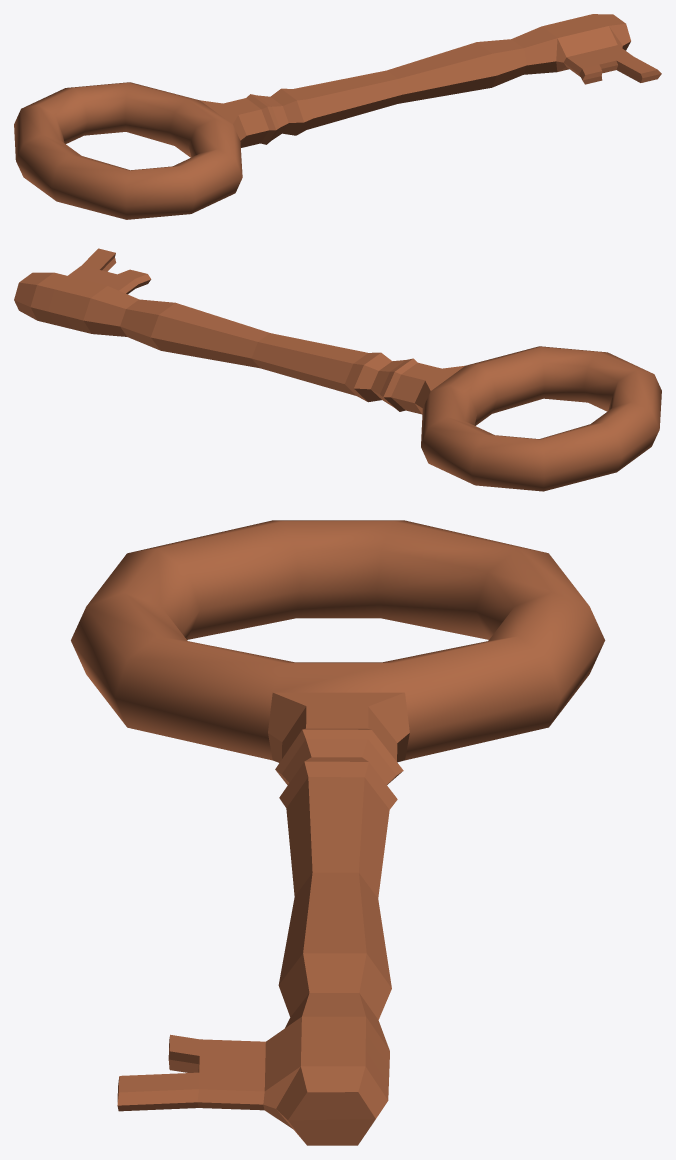
File: Key1.fbx
3 views of the same model, one above another, from view 1: azimuth 30°, elevation 25°; view 2: azimuth 150°, elevation 25°; view 3: azimuth 270°, elevation 25° (orthographic). The views are drawn at different scales.
Visible parts, largest first — view 1: Torus.097; view 2: Torus.097; view 3: Torus.097.
Part boxes in pixels (x1,y1,x2,y2): Torus.097: (14, 14, 661, 219); Torus.097: (14, 248, 661, 491); Torus.097: (71, 520, 605, 1145).
Size of the model in its own units: 382 by 30 by 151.
